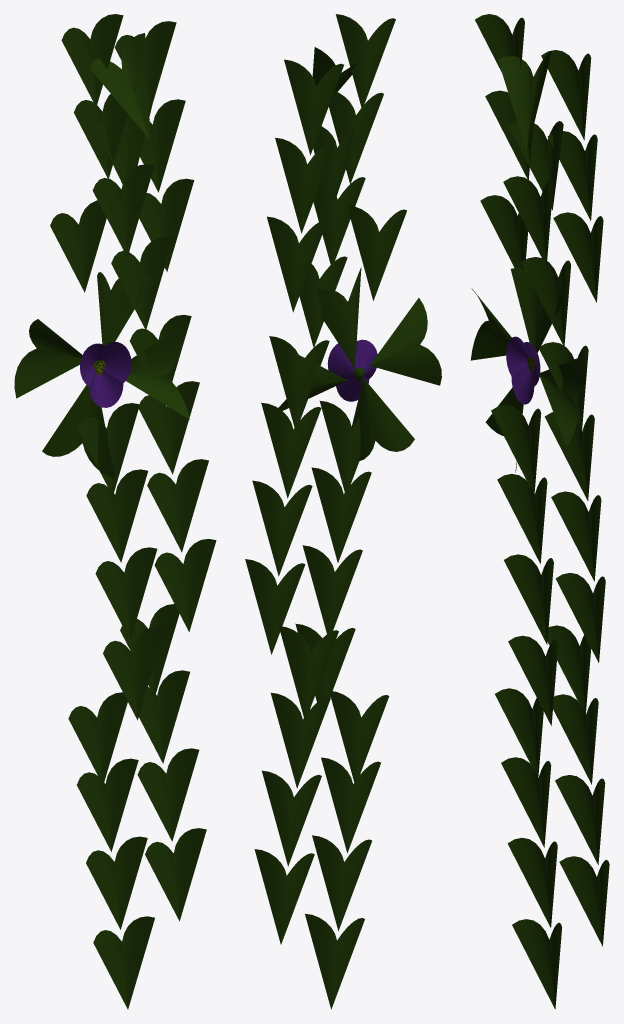
The model's file is Graveyard_Vine_02.fbx.
The picture shows the model from 3 angles, left to right: view 1: azimuth 30°, elevation 25°; view 2: azimuth 210°, elevation 25°; view 3: azimuth 330°, elevation 25°; orthographic projection. The views are drawn at different scales.
Visible parts, largest first — view 1: Model; view 2: Model; view 3: Model.
Boxes of the visible parts, x1,y1,x2,y2 form: Model: (14,14,216,1009); Model: (245,14,441,1009); Model: (470,14,609,1009).
Bounding box in the file's own units: 151 × 860 × 64.25.
